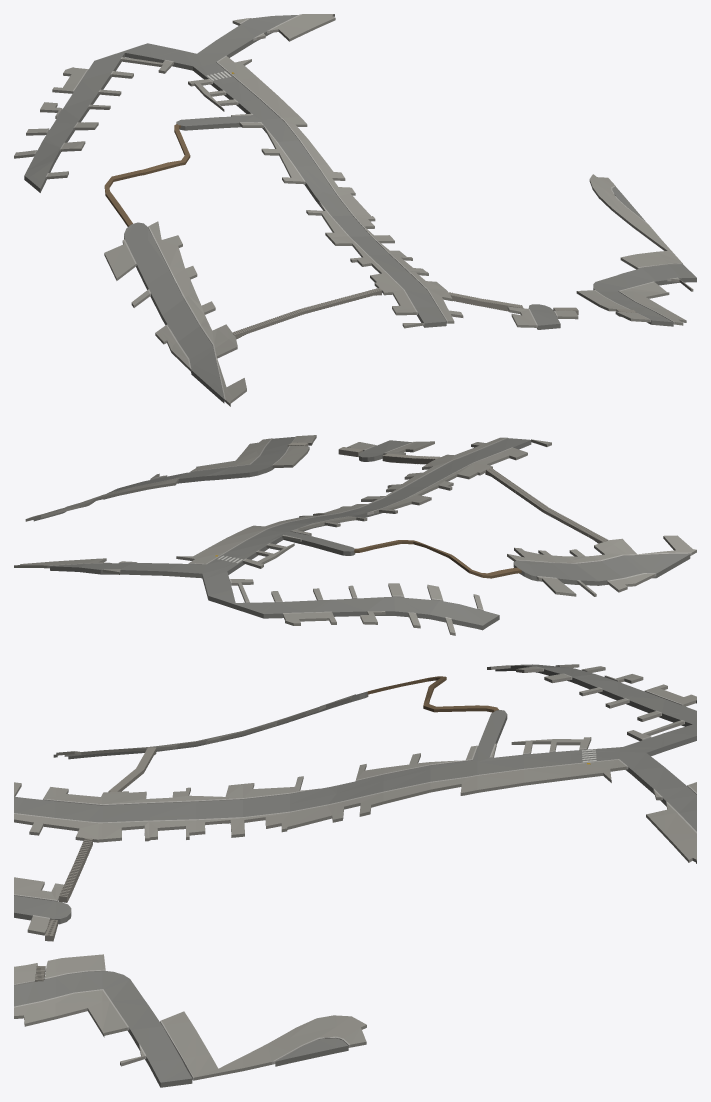
The picture shows the model from 3 angles, top to bottom: view 1: azimuth 30°, elevation 25°; view 2: azimuth 150°, elevation 25°; view 3: azimuth 270°, elevation 25°; orthographic projection. The views are drawn at different scales.
Bounding box in the file's own units: 147 × 40.9 × 146.
